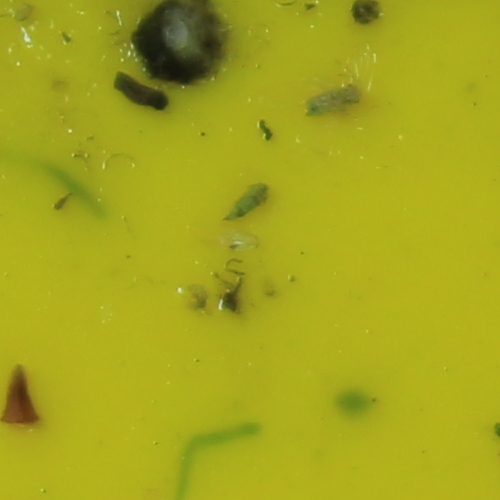Glycaspis: (308, 73, 365, 124)
